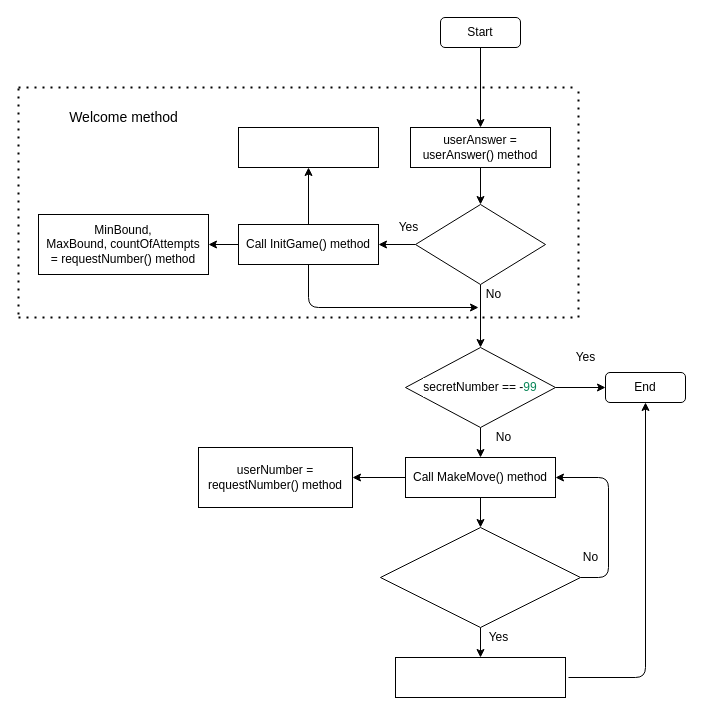
Some shapes in this 703 by 715 pixel diagram are drawn without their labels. Here are the shapes that lost their labels. From the top down, the centre of each, then its label:
the point at 308,147: secretNumber = createNumber () method
the point at 480,244: userAnswer == "y"
the point at 480,577: checkNumber(userNumber) = secretNumber
the point at 480,677: Call GameOver () method
